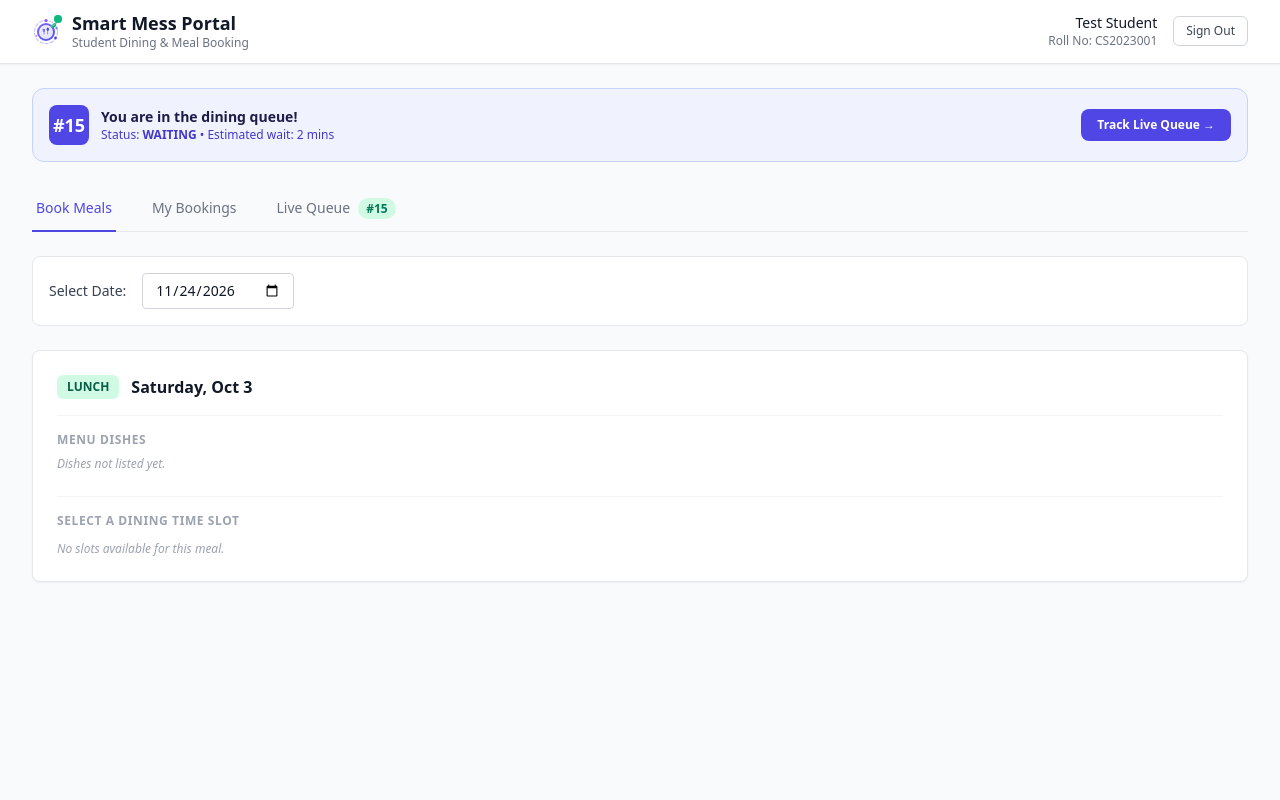
Scenario: Queue UI (Phase 4) › Student Queue View › should display active ticket position and wait time in Live Queue tab
Switch to Live Queue tab
Click the button "Live Queue#15".
click(336, 208)  # box [272,186,400,232]
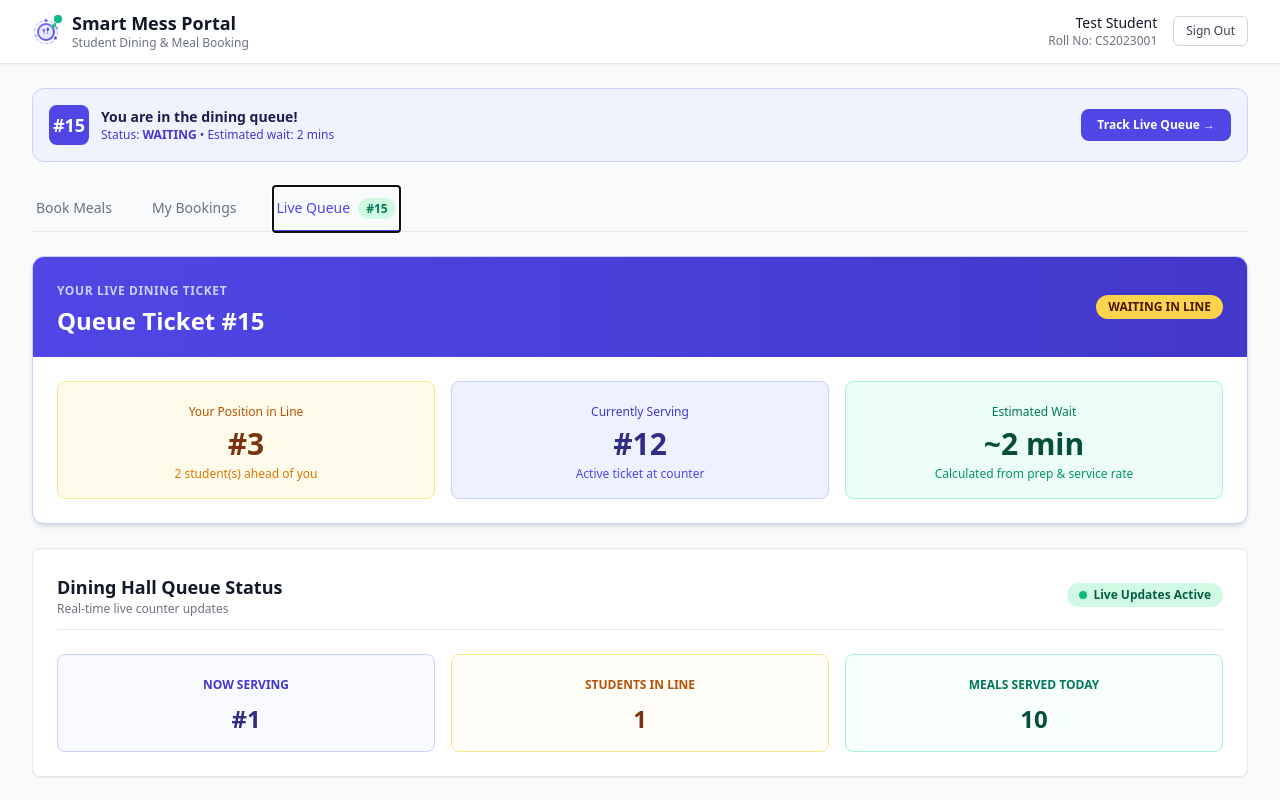
Expected: the heading "Queue Ticket #15" is shown, [57,304,264,336]
Expected: the text "WAITING IN LINE" is shown, [1096,294,1223,318]
Expected: the text "#3" is shown, [228,422,264,464]
